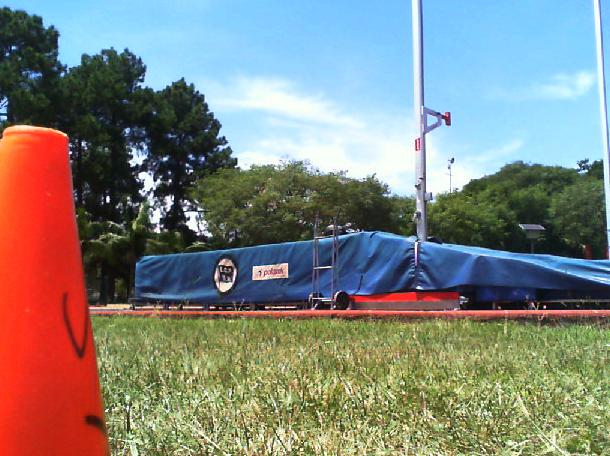0 cone: (0, 123, 114, 456)
